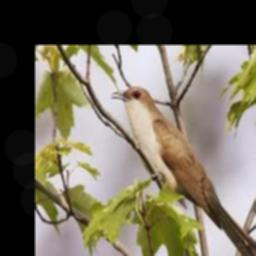Cuckoo: (110, 86, 256, 256)
